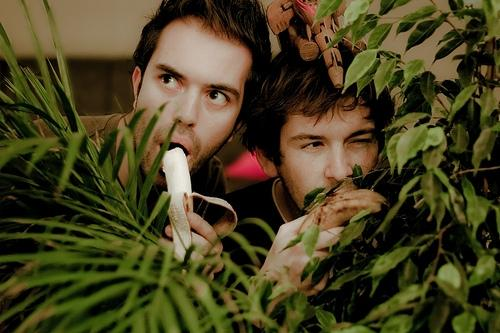banana: (162, 146, 238, 261), (297, 189, 390, 234)
